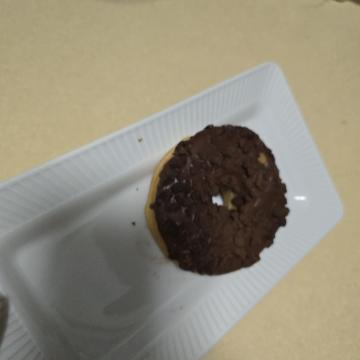doughnut: (109, 60, 286, 229)
